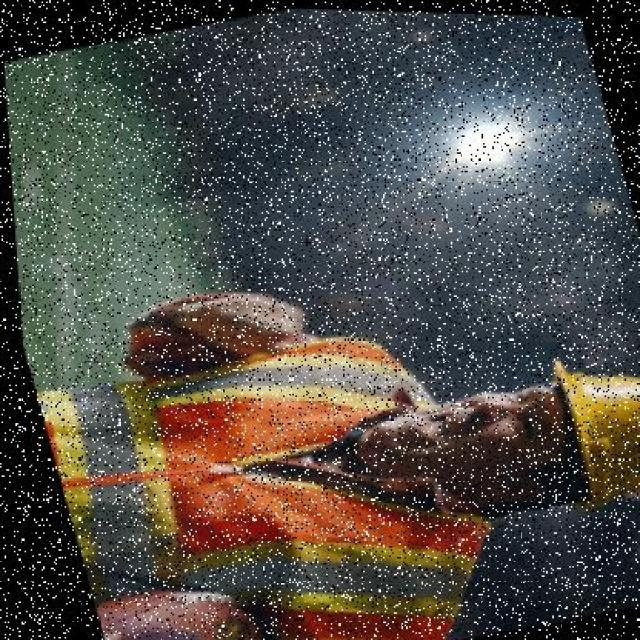helmet: (525, 325, 639, 521)
vest: (17, 288, 500, 639)
